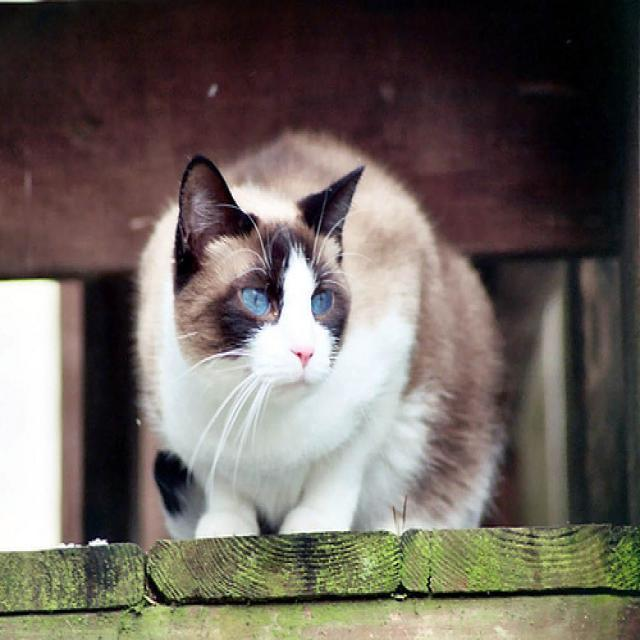Ragdoll: (174, 154, 362, 406)
